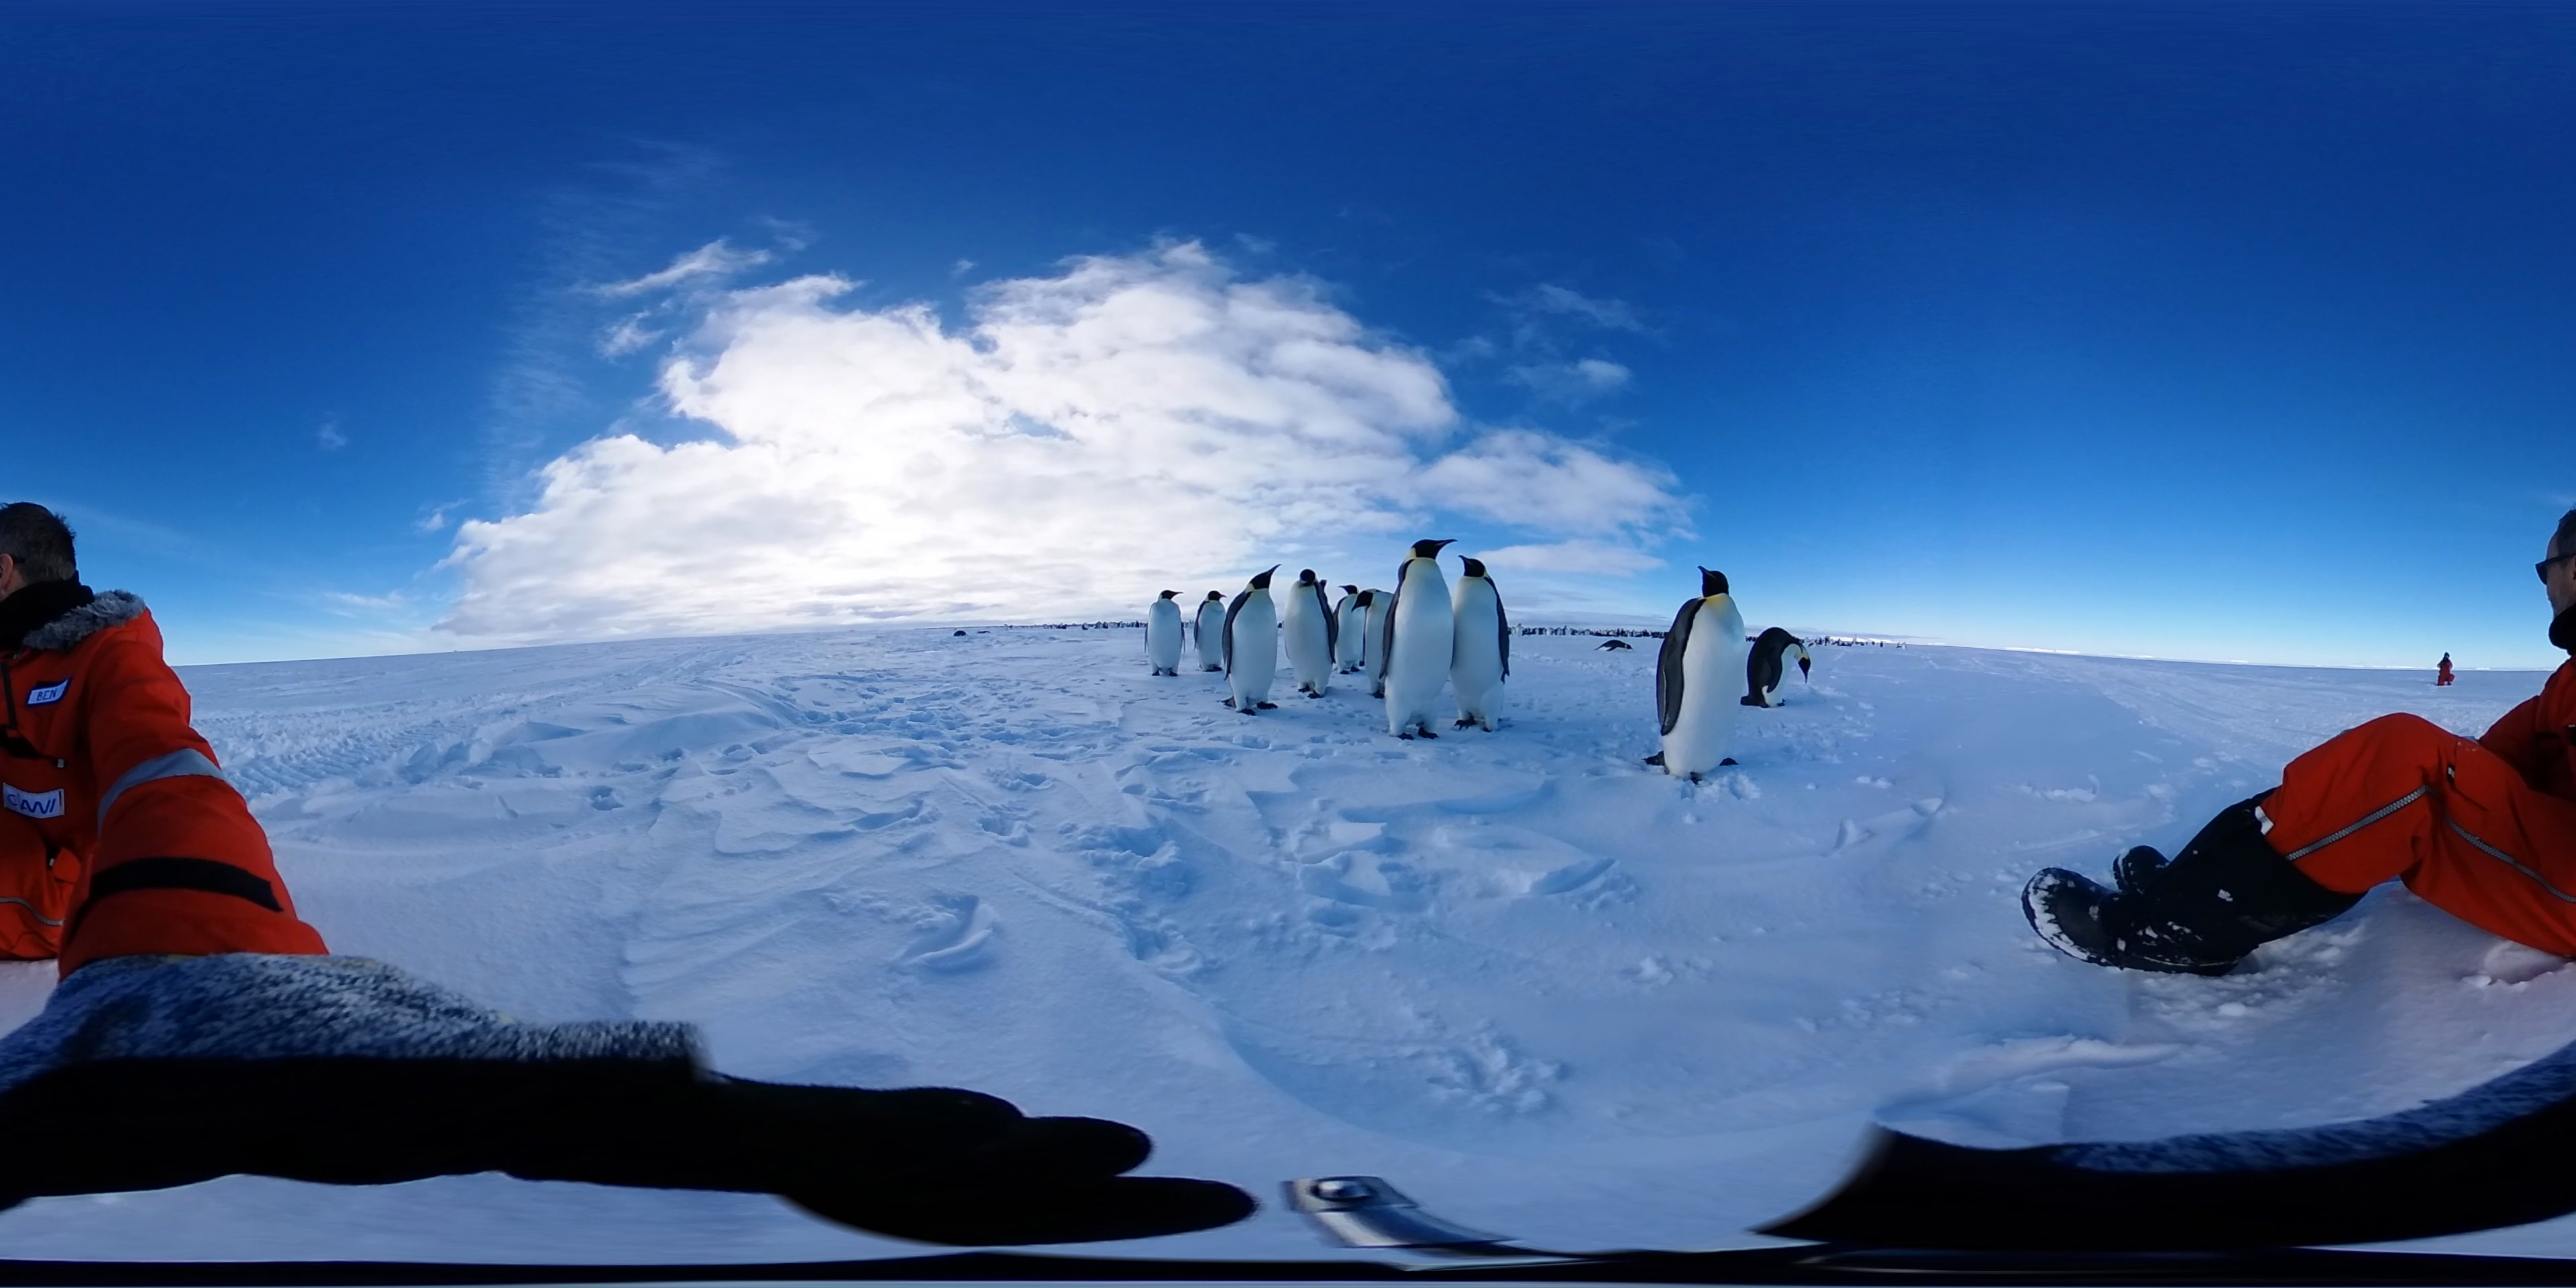adult_standing_penguin: (1646, 552, 1753, 798), (1380, 532, 1460, 743), (1447, 552, 1510, 741), (1219, 560, 1285, 720), (1281, 567, 1337, 701), (1741, 623, 1817, 711), (1350, 586, 1405, 706), (1143, 588, 1184, 680), (1194, 588, 1229, 677), (1332, 580, 1364, 674)
adult_toboggan_penguin: (1595, 637, 1636, 654)
researcher: (2016, 498, 2574, 987), (0, 486, 338, 1272), (2433, 649, 2459, 693)
